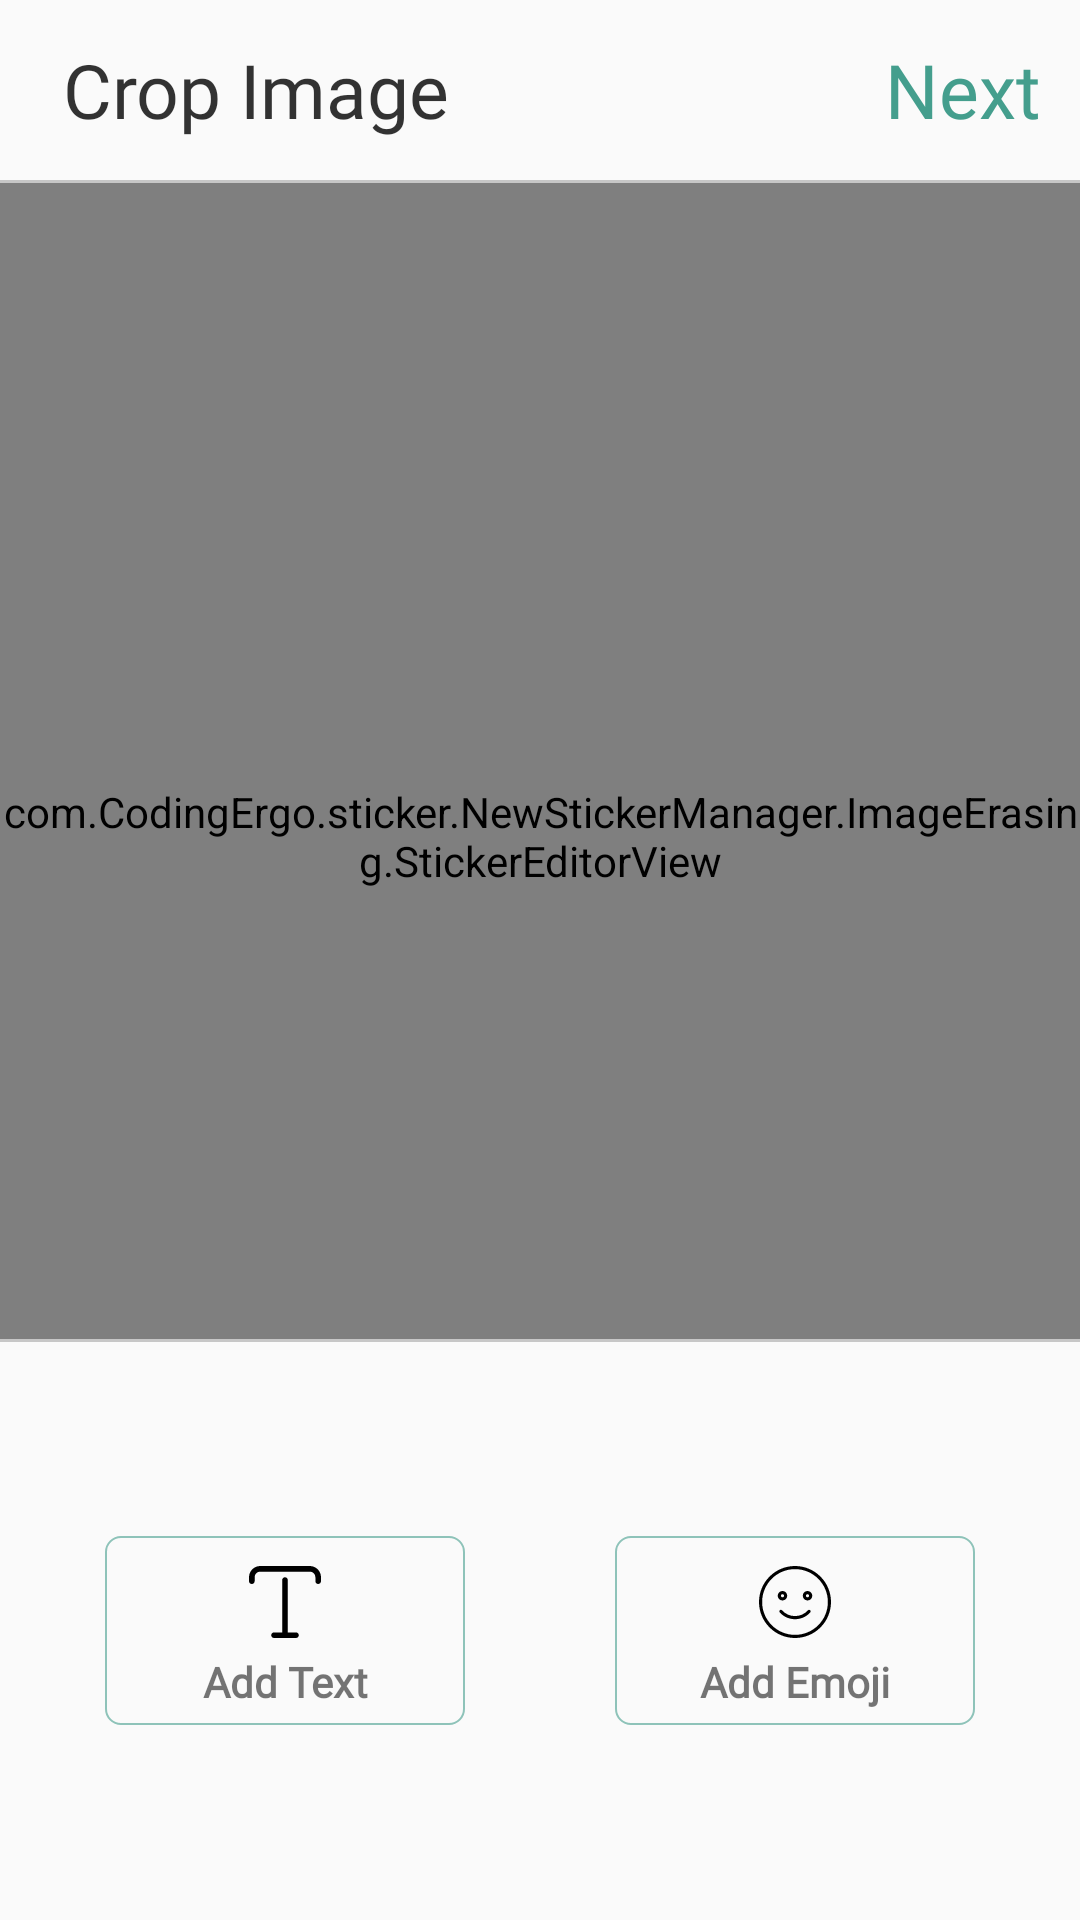

Named icons in this screenshot (1080 × 1920) and their centers, (x=x, y=y):
smile: (x=795, y=1602)
type: (x=285, y=1602)
